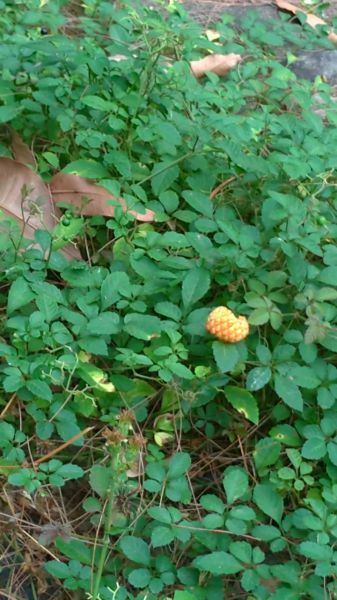eggs: (202, 302, 251, 346)
